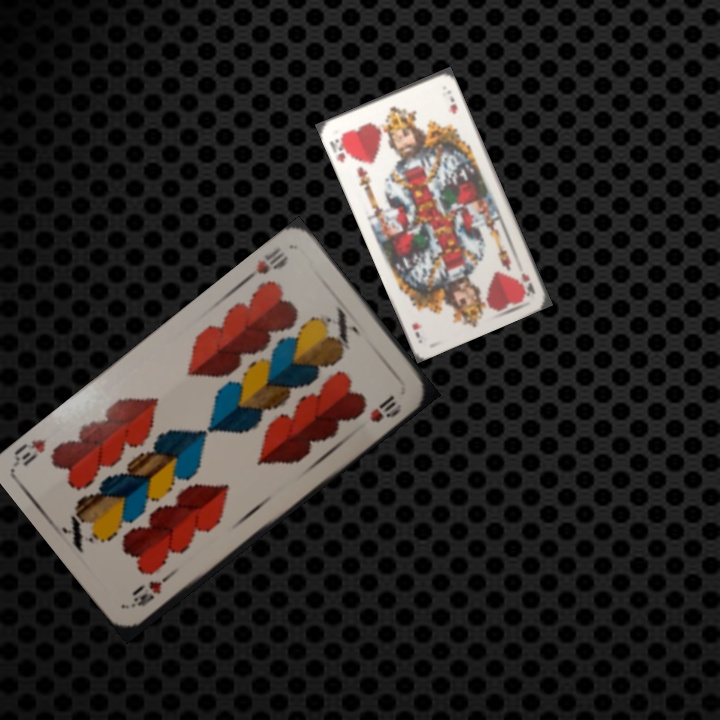H10: (128, 566, 178, 609), (240, 242, 291, 284)
HK: (326, 130, 354, 166), (517, 269, 538, 298)
